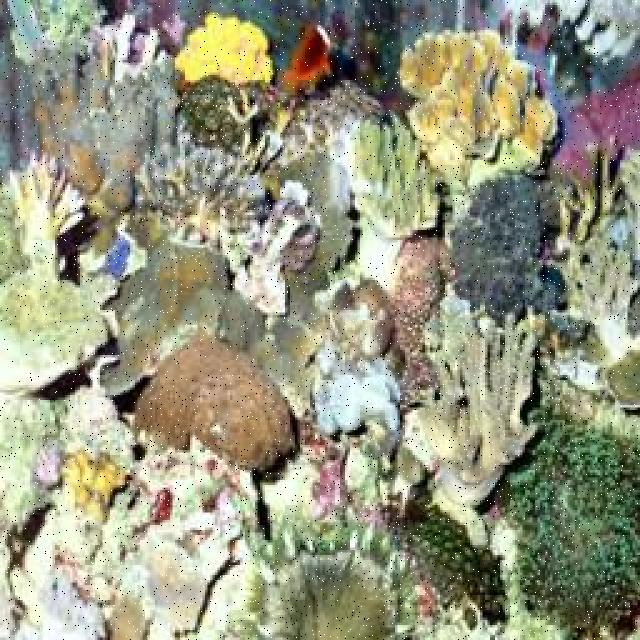aquatic plants: (494, 403, 638, 626), (392, 508, 509, 625)
reefs: (401, 226, 638, 511), (128, 128, 323, 316), (399, 28, 558, 210), (169, 15, 280, 91)
sea-floor: (132, 322, 294, 470)
